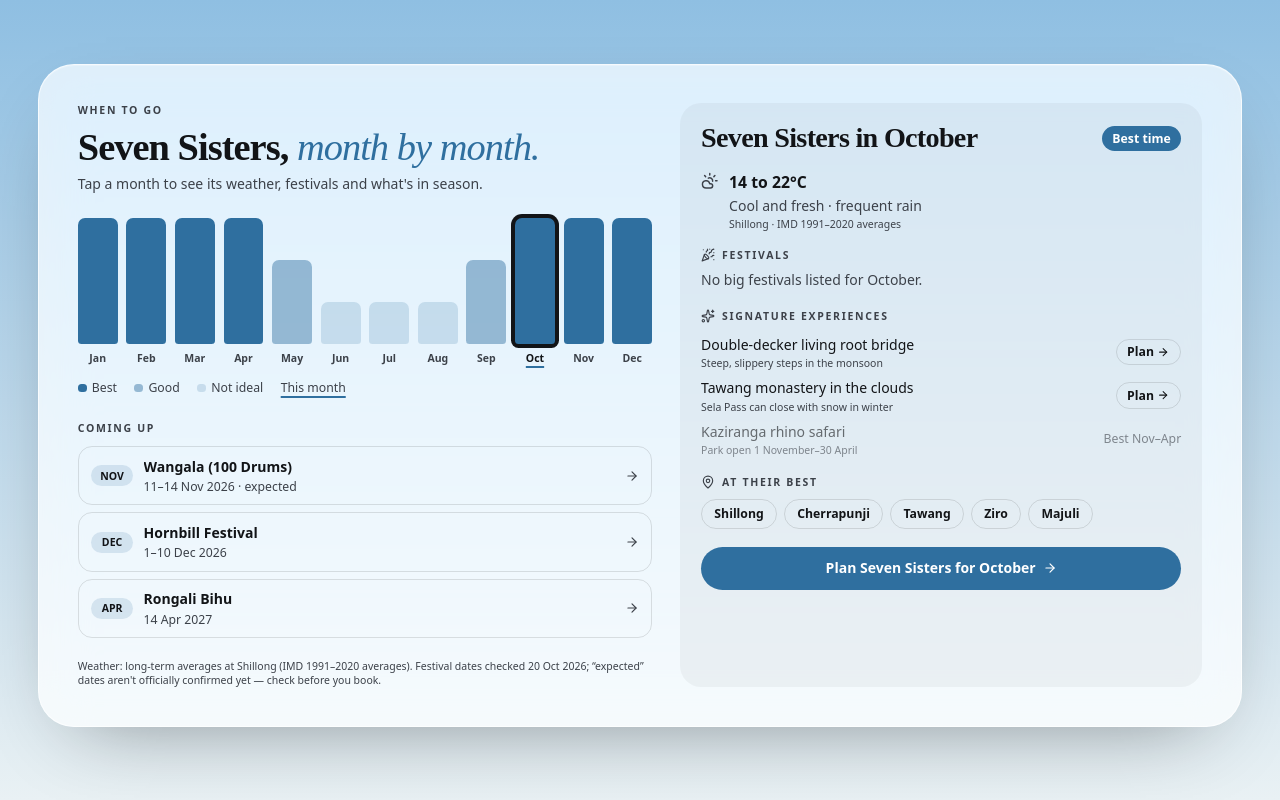
Test: RegionGuide › shows the chosen month's weather, festivals and what's in season
Click the button with aria-label "December" at x=632, y=291, box x1=612 y1=217 x2=652 y2=366
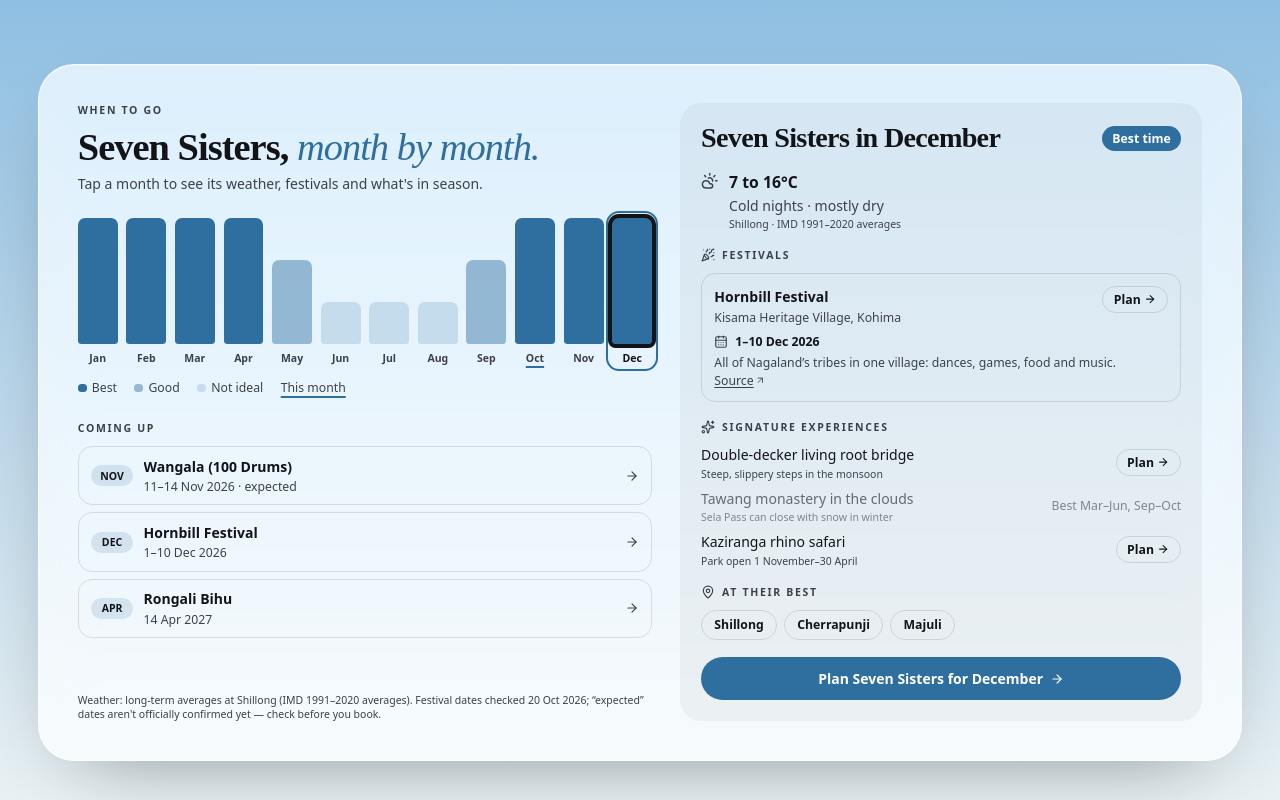
Check: the text "7 to 16°C" is shown, box x1=729 y1=171 x2=798 y2=193
Check: the text "Hornbill Festival" below "Cold nights · mostly dry" is shown, box x1=714 y1=287 x2=828 y2=306
Check: the text "1–10 Dec 2026" below "Kisama Heritage Village, Kohima" is shown, box x1=735 y1=333 x2=820 y2=350
